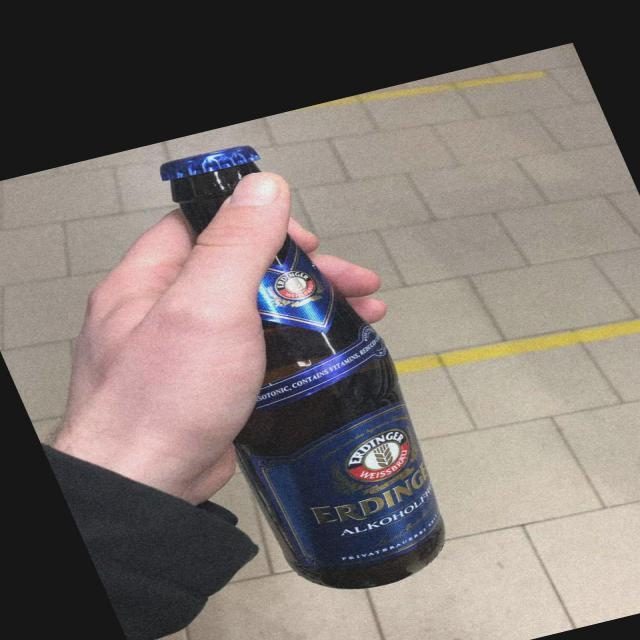BotolKaca: (158, 144, 446, 589)
